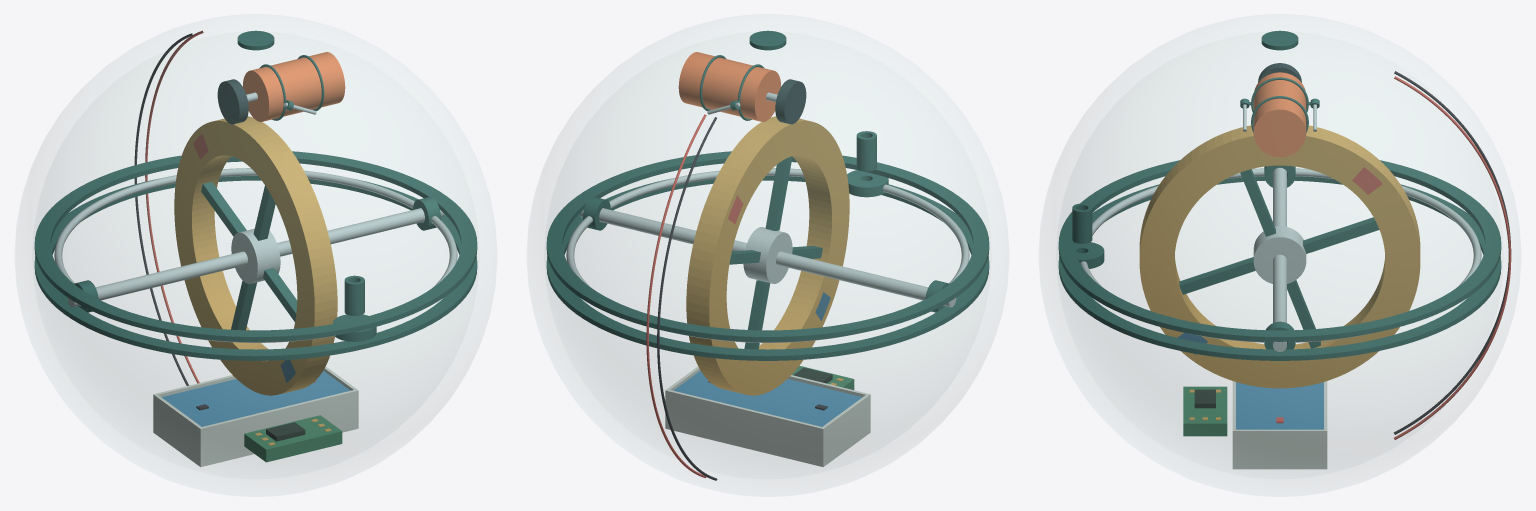
File: orbita-55.glb
The picture shows the model from 3 angles, left to right: view 1: azimuth 30°, elevation 25°; view 2: azimuth 150°, elevation 25°; view 3: azimuth 270°, elevation 25°; orthographic projection.
Parts seen in each view (by area): view 1: Fixed race lip (×2), Rotor ring 32 x 24 x 3 mm, Motor envelope diameter 6 length 10 - NOT a selected compone, Pocket long wall, Cell reserve 20 x 10 x 4 mm - capacity not specified, Shaft fixed to rotor - 1.6 x 48.6 mm, Guide arc with functional clearance (×2), Rotor spoke (×4), PCB reserve 10 x 5 x 1.6 mm, Wall conduit reserve (×2), Hub with shaft bore, Pocket end wall (+5 smaller); view 2: Rotor ring 32 x 24 x 3 mm, Fixed race lip (×2), Pocket long wall, Motor envelope diameter 6 length 10 - NOT a selected compone, Cell reserve 20 x 10 x 4 mm - capacity not specified, Shaft fixed to rotor - 1.6 x 48.6 mm, Guide arc with functional clearance (×3), Wall conduit reserve (×2), Rotor spoke (×2), Hub with shaft bore, Pocket end wall, Friction roller diameter 5 width 1.2 (+5 smaller); view 3: Rotor ring 32 x 24 x 3 mm, Fixed race lip (×2), Rotor spoke (×4), Cell reserve 20 x 10 x 4 mm - capacity not specified, Motor envelope diameter 6 length 10 - NOT a selected compone, Pocket end wall, Wall conduit reserve (×2), Guide arc with functional clearance (×2), Hub with shaft bore, Shaft fixed to rotor - 1.6 x 48.6 mm, PCB reserve 10 x 5 x 1.6 mm, Fixed pin-guide sleeve (+2 smaller).
Boxes of the visible parts, bbox=[...] form: Fixed race lip (×2): bbox=[34, 151, 477, 360]; Rotor ring 32 x 24 x 3 mm: bbox=[174, 116, 337, 395]; Motor envelope diameter 6 length 10 - NOT a selected compone: bbox=[242, 52, 345, 121]; Pocket long wall: bbox=[199, 389, 358, 463]; Cell reserve 20 x 10 x 4 mm - capacity not specified: bbox=[161, 371, 350, 426]; Shaft fixed to rotor - 1.6 x 48.6 mm: bbox=[67, 208, 444, 307]; Guide arc with functional clearance (×2): bbox=[54, 168, 457, 287]; Rotor spoke (×4): bbox=[201, 181, 297, 330]; PCB reserve 10 x 5 x 1.6 mm: bbox=[244, 415, 342, 462]; Wall conduit reserve (×2): bbox=[134, 30, 203, 385]; Hub with shaft bore: bbox=[231, 228, 280, 283]; Pocket end wall: bbox=[155, 395, 201, 462]; Rotor ring 32 x 24 x 3 mm: bbox=[686, 116, 849, 395]; Fixed race lip (×2): bbox=[546, 151, 989, 360]; Pocket long wall: bbox=[665, 389, 824, 463]; Motor envelope diameter 6 length 10 - NOT a selected compone: bbox=[678, 52, 781, 121]; Cell reserve 20 x 10 x 4 mm - capacity not specified: bbox=[673, 371, 862, 426]; Shaft fixed to rotor - 1.6 x 48.6 mm: bbox=[579, 208, 956, 307]; Guide arc with functional clearance (×3): bbox=[566, 168, 969, 342]; Wall conduit reserve (×2): bbox=[646, 114, 717, 480]; Rotor spoke (×2): bbox=[744, 156, 792, 349]; Hub with shaft bore: bbox=[743, 227, 792, 283]; Pocket end wall: bbox=[822, 395, 868, 462]; Friction roller diameter 5 width 1.2: bbox=[775, 79, 806, 124]; Rotor ring 32 x 24 x 3 mm: bbox=[1139, 125, 1420, 388]; Fixed race lip (×2): bbox=[1058, 160, 1501, 360]; Rotor spoke (×4): bbox=[1179, 169, 1379, 348]; Cell reserve 20 x 10 x 4 mm - capacity not specified: bbox=[1236, 382, 1323, 429]; Motor envelope diameter 6 length 10 - NOT a selected compone: bbox=[1253, 72, 1306, 157]; Pocket end wall: bbox=[1236, 429, 1323, 465]; Wall conduit reserve (×2): bbox=[1393, 71, 1511, 439]; Guide arc with functional clearance (×2): bbox=[1092, 168, 1481, 342]; Hub with shaft bore: bbox=[1253, 226, 1306, 283]; Shaft fixed to rotor - 1.6 x 48.6 mm: bbox=[1273, 167, 1286, 351]; PCB reserve 10 x 5 x 1.6 mm: bbox=[1183, 386, 1227, 436]; Fixed pin-guide sleeve: bbox=[1072, 203, 1092, 243].
Size of the model in its own units: 0.055 by 0.055 by 0.055.
